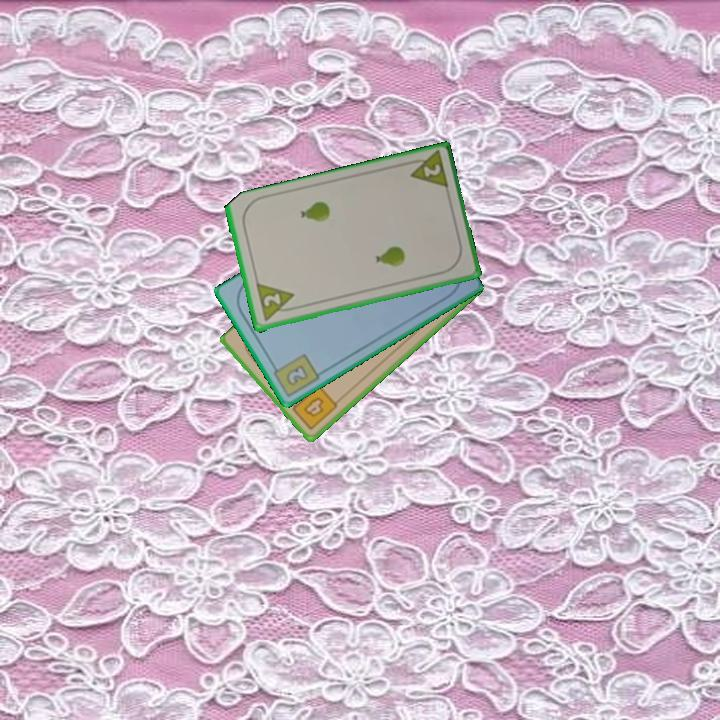2b: (268, 350, 323, 400)
2p: (402, 149, 451, 193), (252, 281, 300, 325)
4b: (286, 381, 341, 433)
